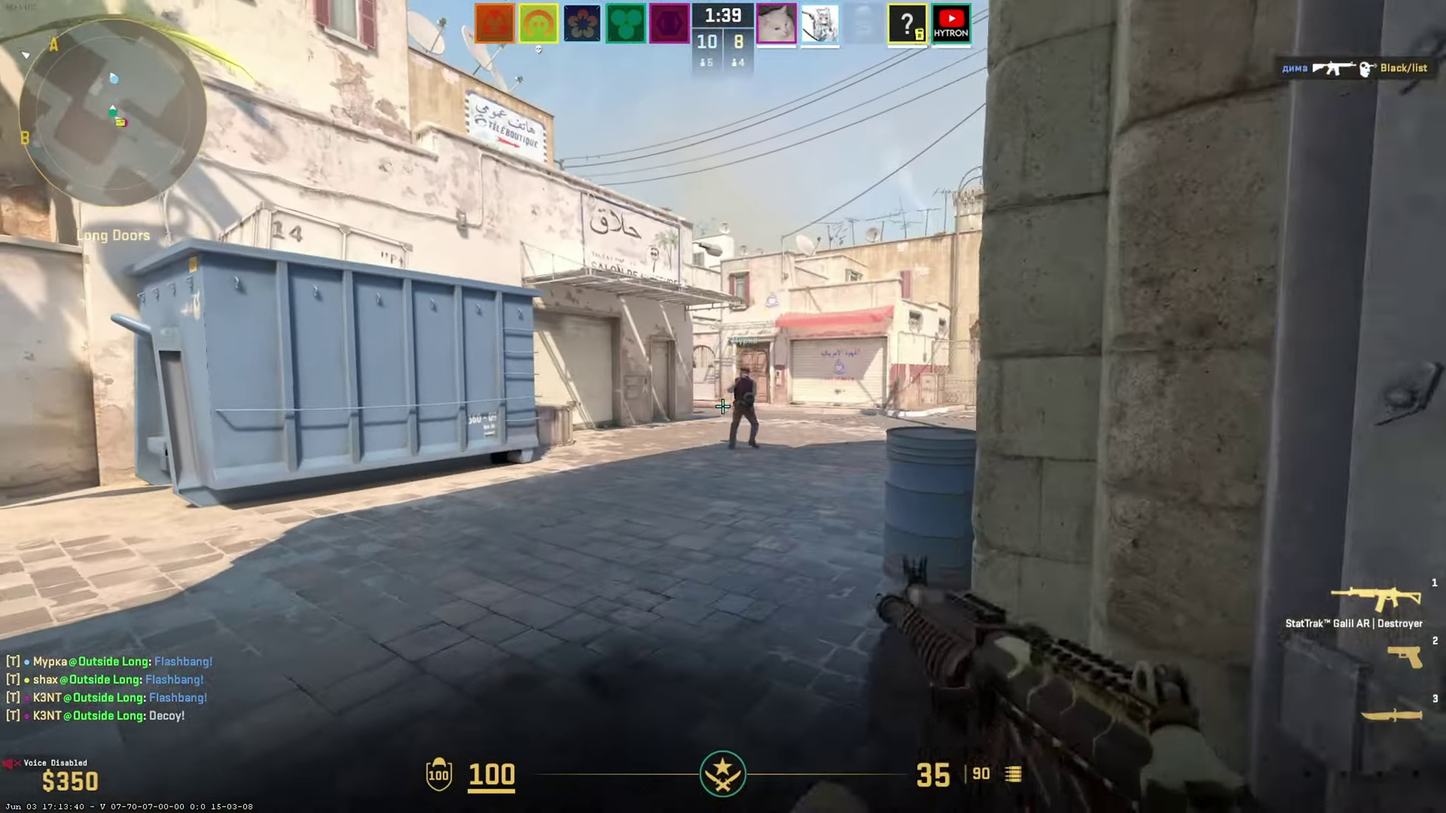Terrorist: (727, 368, 758, 450)
